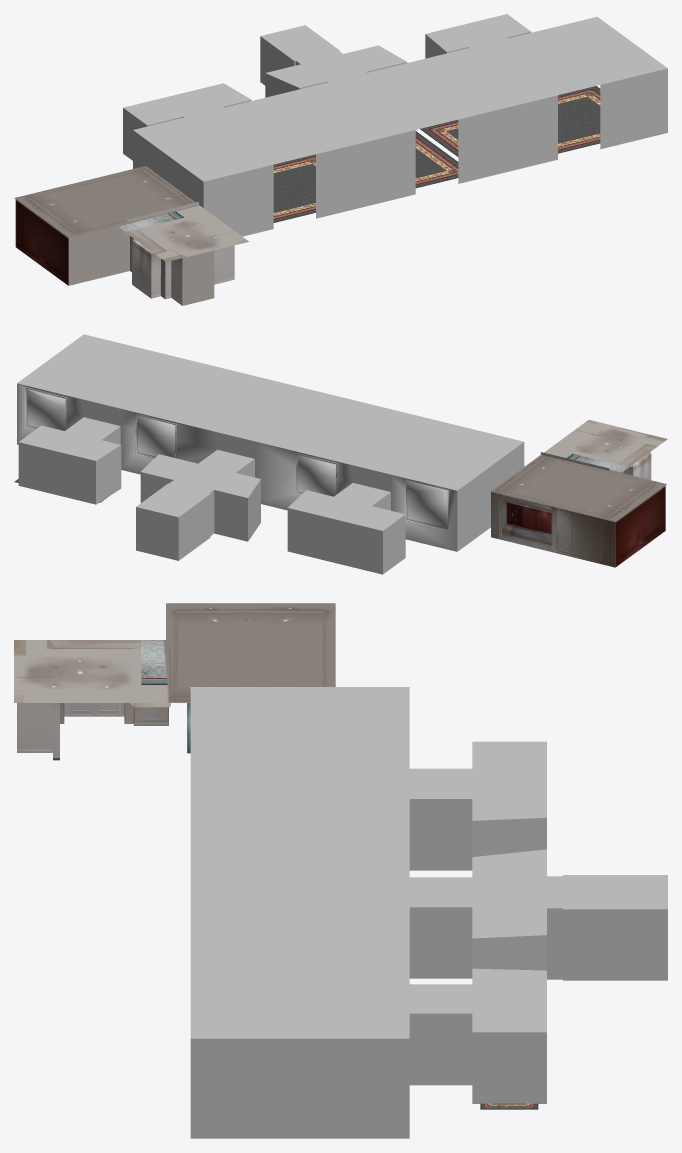
File: WallsBackground.fbx
The picture shows the model from 3 angles, top to bottom: view 1: azimuth 30°, elevation 25°; view 2: azimuth 150°, elevation 25°; view 3: azimuth 270°, elevation 25°; orthographic projection. The views are drawn at different scales.
Parts seen in each view (by area): view 1: Walls, Room02, Carpet; view 2: Walls, Room02; view 3: Walls, Room02.
Part boxes in pixels (x1,y1,x2,y2): Walls: (123, 14, 667, 236); Room02: (14, 166, 248, 305); Carpet: (273, 86, 600, 222); Walls: (17, 334, 524, 574); Room02: (491, 420, 667, 567); Walls: (190, 687, 667, 1138); Room02: (14, 603, 335, 760).
Bounding box in the file's own units: 3077 × 312 × 1850.
